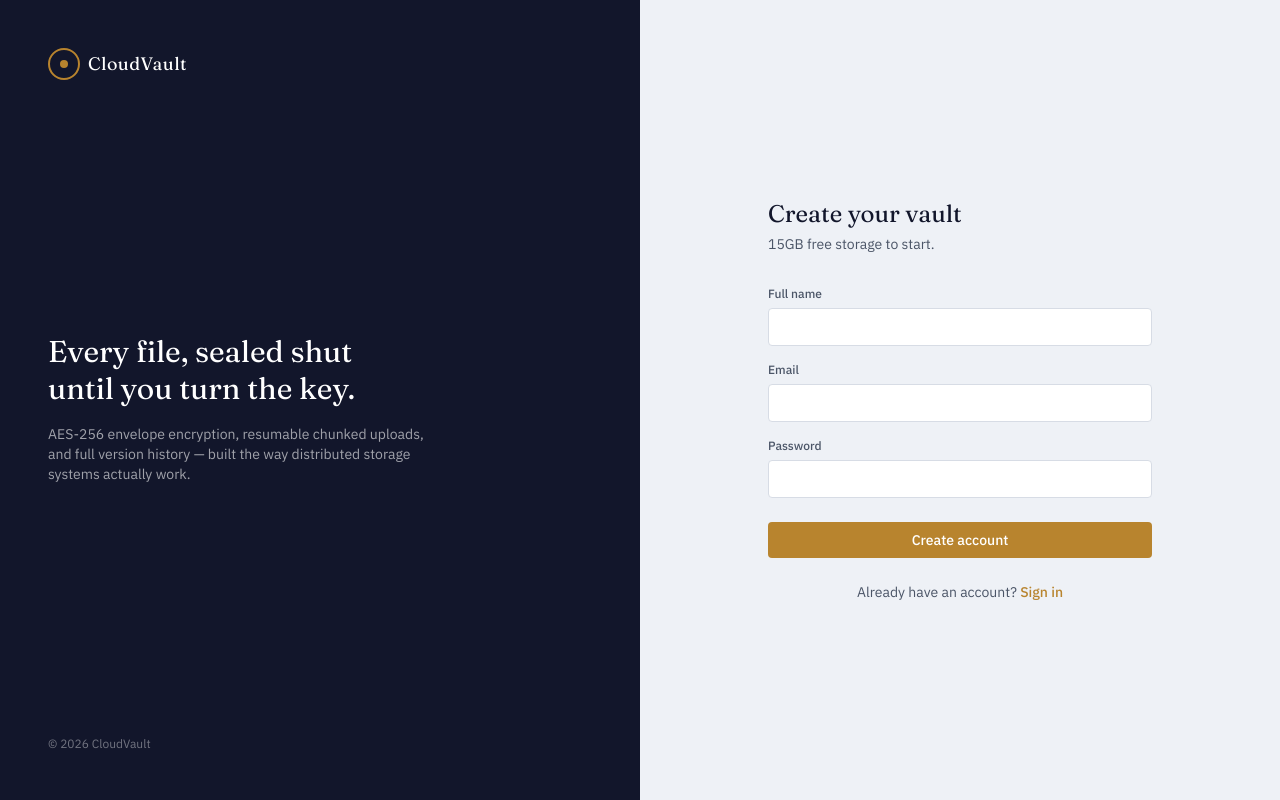
Test case: RegisterPage › submits registration and shows an error on failure
This screenshot has width=1280, height=800.
Type "Jane Doe" into the field labelled "Full name" at {"x": 960, "y": 327}, box left=768, top=308, right=1152, bottom=346
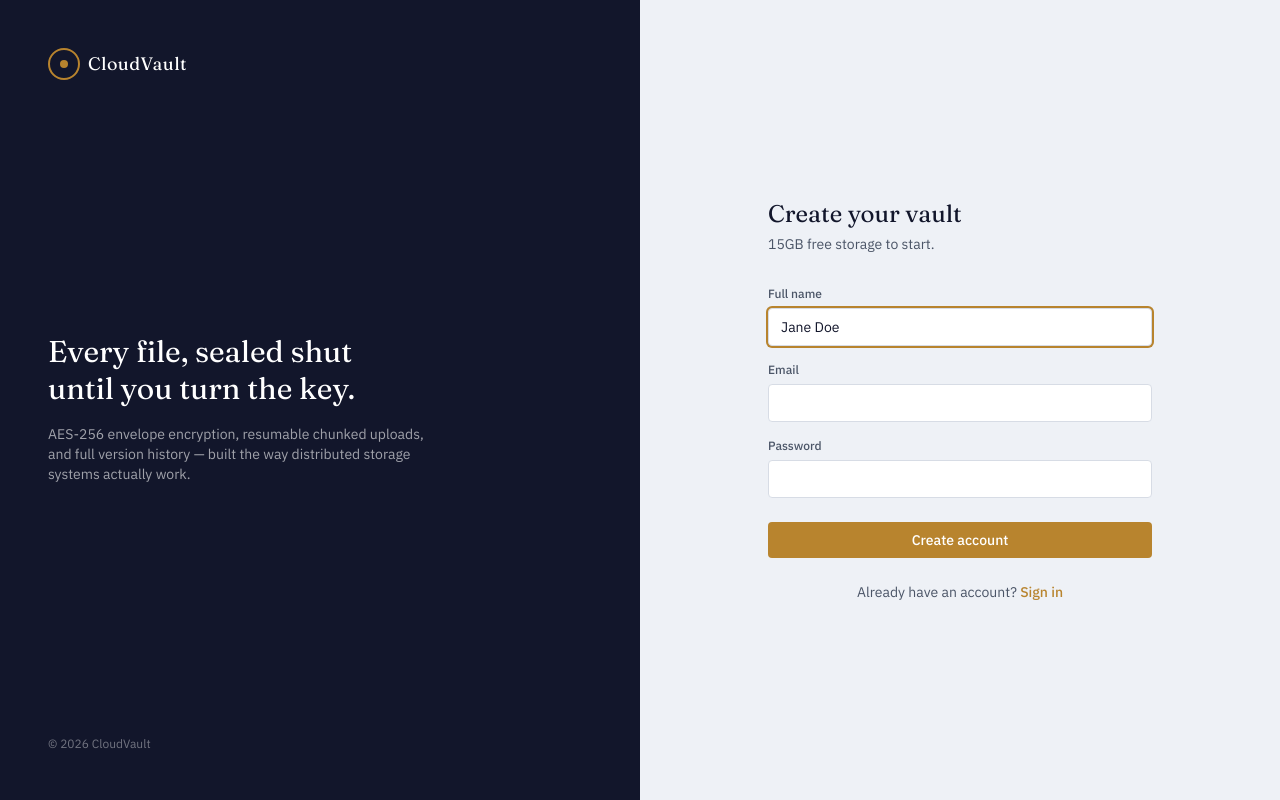
Type "jane@example.com" into the field labelled "Email" at {"x": 960, "y": 403}, box left=768, top=384, right=1152, bottom=422
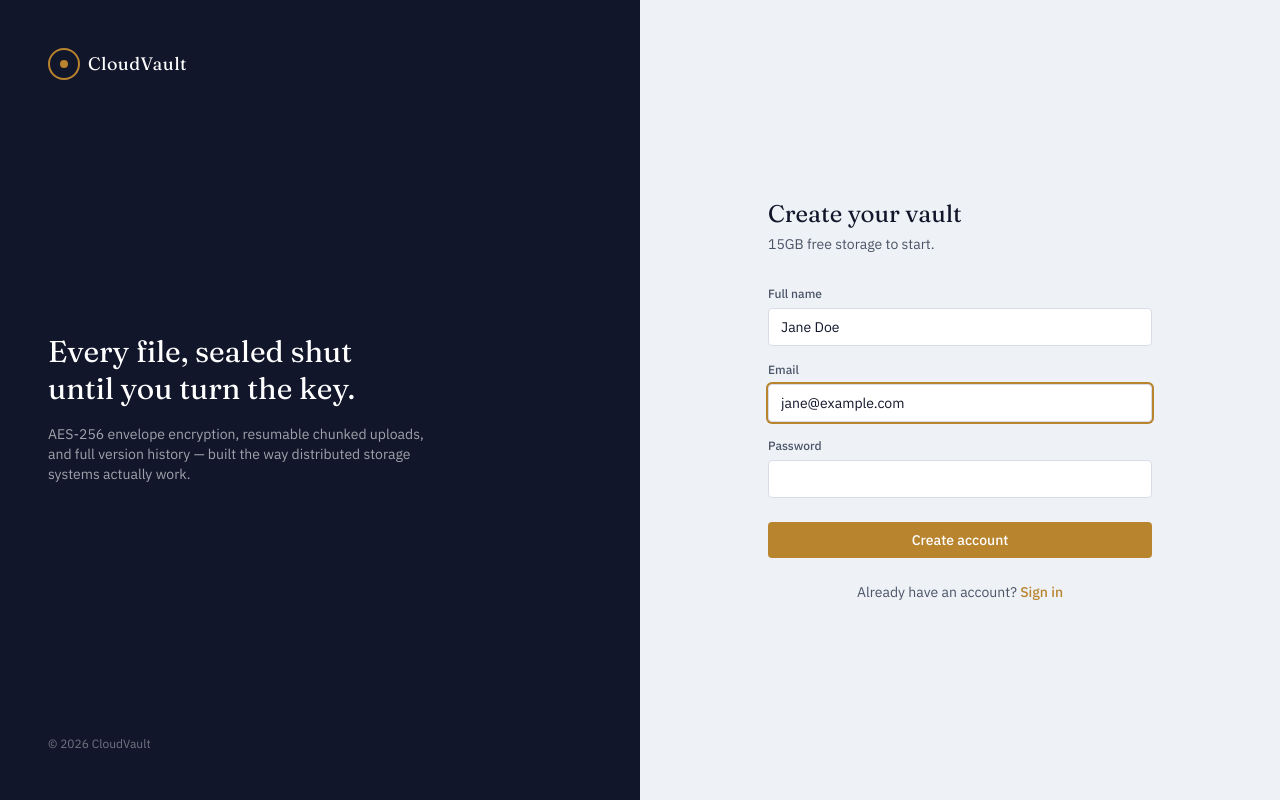
Type "SuperSecret1!" into the password field labelled "Password" at {"x": 960, "y": 479}, box left=768, top=460, right=1152, bottom=498
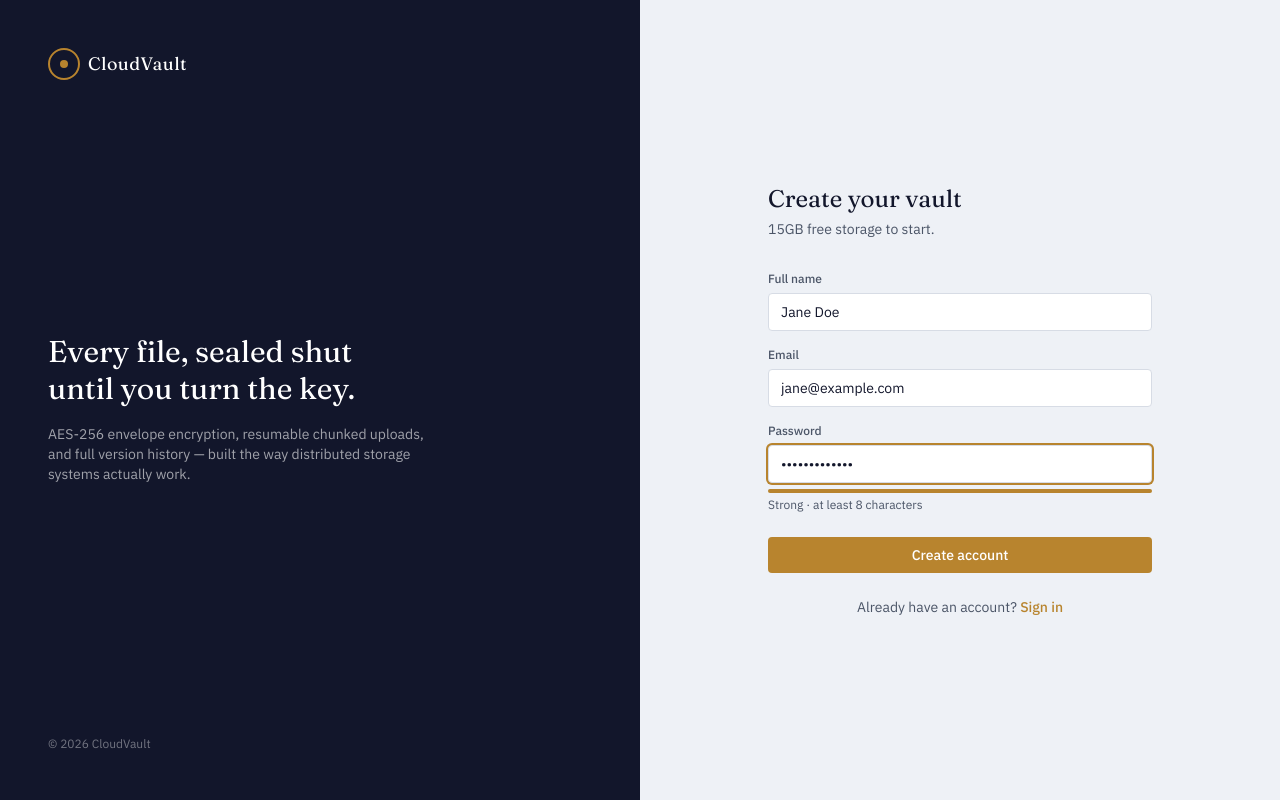
Click the button "Create account" at {"x": 960, "y": 555}, box left=768, top=537, right=1152, bottom=573
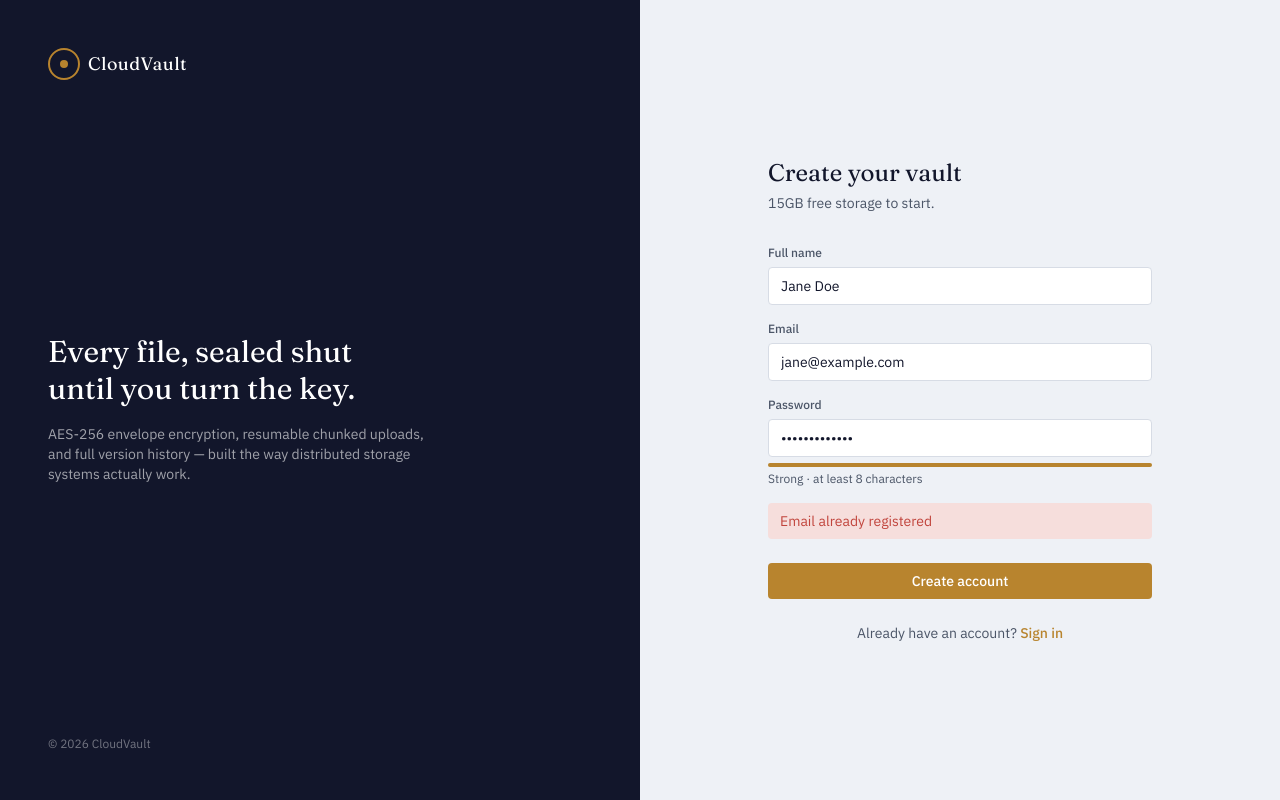
Now the message reads "Email already registered", box left=780, top=512, right=932, bottom=530
